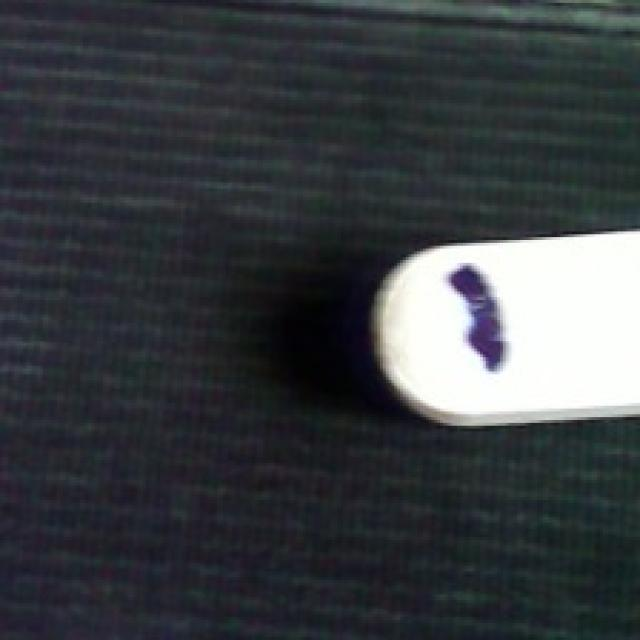defected: (360, 226, 637, 428)
